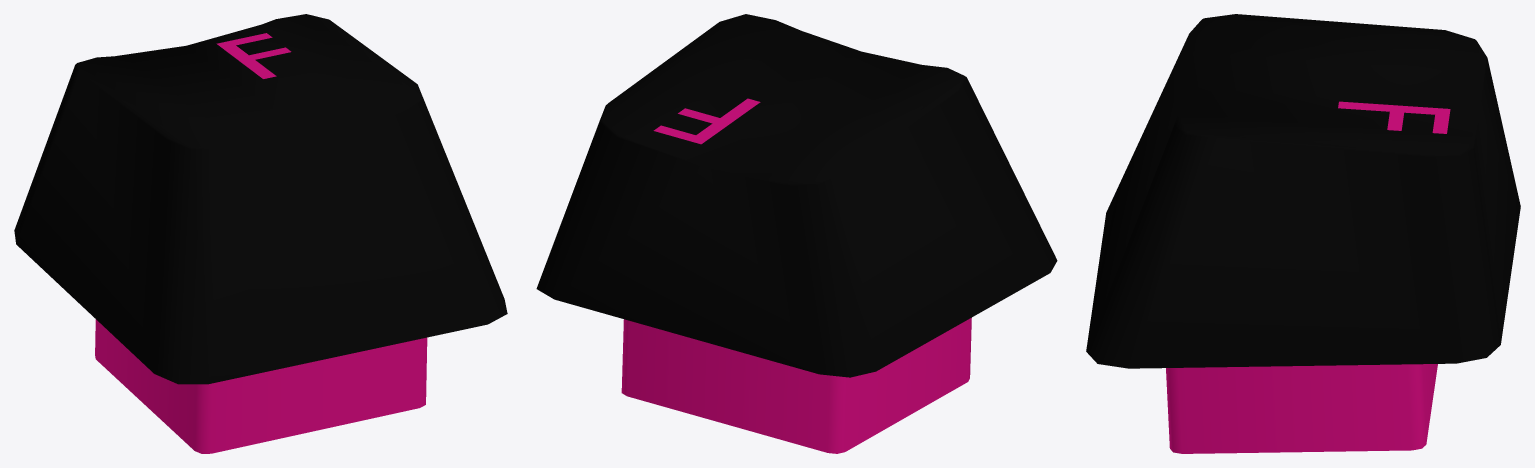
File: f-CAAplpCn.glb
3 views of the same model, side by side, from view 1: azimuth 30°, elevation 25°; view 2: azimuth 150°, elevation 25°; view 3: azimuth 270°, elevation 25° (orthographic). The views are drawn at different scales.
Visible parts, largest first — view 1: StudyShelf_757; view 2: StudyShelf_757; view 3: StudyShelf_757.
Boxes of the visible parts, bbox=[...] form: StudyShelf_757: bbox=[14, 14, 507, 453]; StudyShelf_757: bbox=[536, 14, 1057, 453]; StudyShelf_757: bbox=[1086, 14, 1520, 453].
Bounding box in the file's own units: 4.35 × 3.55 × 4.35.
